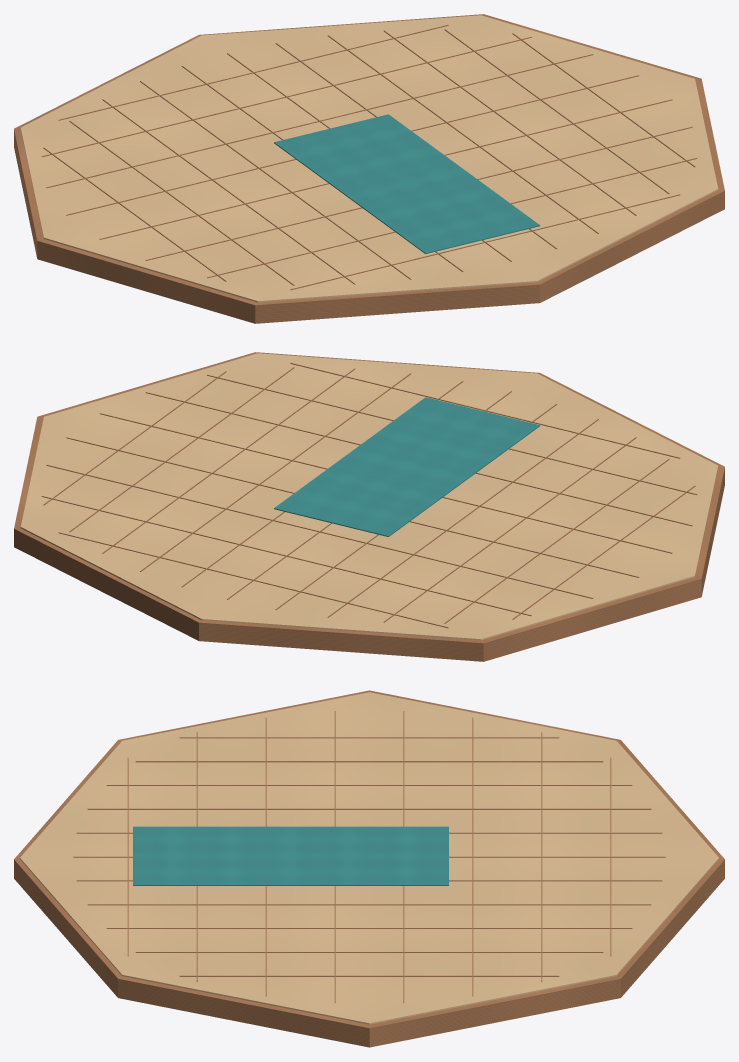
File: atlas100-s096-a07.glb
The picture shows the model from 3 angles, top to bottom: view 1: azimuth 30°, elevation 25°; view 2: azimuth 150°, elevation 25°; view 3: azimuth 270°, elevation 25°; orthographic projection. The views are drawn at different scales.
Parts seen in each view (by area): view 1: atlas100-s096-a07:part-001, atlas100-s096-a07:part-000, atlas100-s096-a07:part-021, atlas100-s096-a07:part-015, atlas100-s096-a07:part-014, atlas100-s096-a07:part-017, atlas100-s096-a07:part-016, atlas100-s096-a07:part-018, atlas100-s096-a07:part-013, atlas100-s096-a07:part-020, atlas100-s096-a07:part-019, atlas100-s096-a07:part-005 (+3 smaller); view 2: atlas100-s096-a07:part-001, atlas100-s096-a07:part-000, atlas100-s096-a07:part-021, atlas100-s096-a07:part-015, atlas100-s096-a07:part-014, atlas100-s096-a07:part-016, atlas100-s096-a07:part-017, atlas100-s096-a07:part-018, atlas100-s096-a07:part-013, atlas100-s096-a07:part-020, atlas100-s096-a07:part-019, atlas100-s096-a07:part-005 (+3 smaller); view 3: atlas100-s096-a07:part-001, atlas100-s096-a07:part-000, atlas100-s096-a07:part-021, atlas100-s096-a07:part-005, atlas100-s096-a07:part-009, atlas100-s096-a07:part-003, atlas100-s096-a07:part-012, atlas100-s096-a07:part-002.
Part boxes in pixels (left/top/right/bottom): atlas100-s096-a07:part-001: left=20, top=15, right=718, bottom=302; atlas100-s096-a07:part-000: left=14, top=14, right=724, bottom=323; atlas100-s096-a07:part-021: left=274, top=114, right=540, bottom=253; atlas100-s096-a07:part-015: left=46, top=54, right=593, bottom=188; atlas100-s096-a07:part-014: left=41, top=36, right=531, bottom=156; atlas100-s096-a07:part-017: left=99, top=99, right=672, bottom=239; atlas100-s096-a07:part-016: left=66, top=75, right=639, bottom=215; atlas100-s096-a07:part-018: left=145, top=127, right=692, bottom=260; atlas100-s096-a07:part-013: left=58, top=25, right=448, bottom=120; atlas100-s096-a07:part-020: left=290, top=194, right=680, bottom=290; atlas100-s096-a07:part-019: left=207, top=158, right=697, bottom=278; atlas100-s096-a07:part-005: left=140, top=81, right=411, bottom=279; atlas100-s096-a07:part-001: left=20, top=353, right=718, bottom=640; atlas100-s096-a07:part-000: left=14, top=352, right=724, bottom=661; atlas100-s096-a07:part-021: left=274, top=397, right=540, bottom=536; atlas100-s096-a07:part-015: left=46, top=465, right=593, bottom=598; atlas100-s096-a07:part-014: left=41, top=496, right=531, bottom=616; atlas100-s096-a07:part-016: left=66, top=437, right=639, bottom=577; atlas100-s096-a07:part-017: left=99, top=413, right=672, bottom=553; atlas100-s096-a07:part-018: left=145, top=392, right=692, bottom=526; atlas100-s096-a07:part-013: left=58, top=532, right=448, bottom=628; atlas100-s096-a07:part-020: left=290, top=363, right=680, bottom=458; atlas100-s096-a07:part-019: left=207, top=374, right=697, bottom=494; atlas100-s096-a07:part-005: left=327, top=419, right=598, bottom=617; atlas100-s096-a07:part-001: left=20, top=692, right=718, bottom=1024; atlas100-s096-a07:part-000: left=14, top=690, right=724, bottom=1047; atlas100-s096-a07:part-021: left=133, top=826, right=448, bottom=885; atlas100-s096-a07:part-005: left=87, top=808, right=651, bottom=809; atlas100-s096-a07:part-009: left=87, top=904, right=651, bottom=905; atlas100-s096-a07:part-003: left=135, top=761, right=603, bottom=762; atlas100-s096-a07:part-012: left=179, top=975, right=559, bottom=976; atlas100-s096-a07:part-002: left=179, top=737, right=559, bottom=738.
Bounding box in the file's own units: 12.75 × 0.404 × 11.34.
3 materials, 3 textured.
